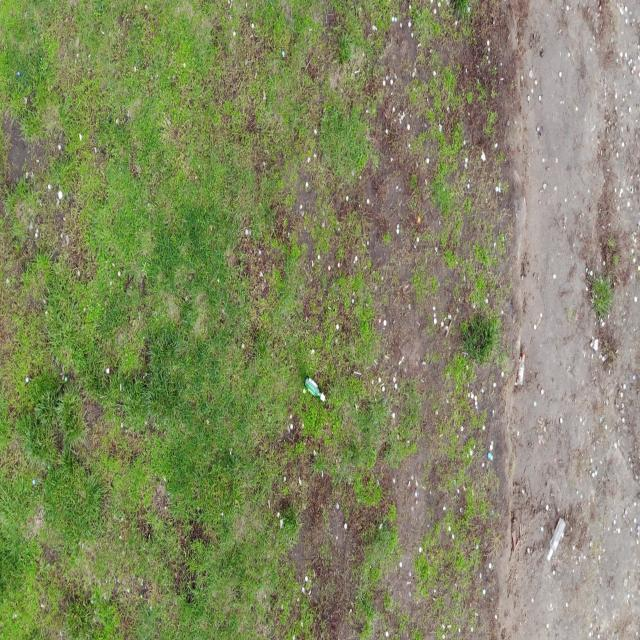rubbish: (546, 514, 568, 563), (303, 374, 327, 405), (514, 353, 526, 385)
